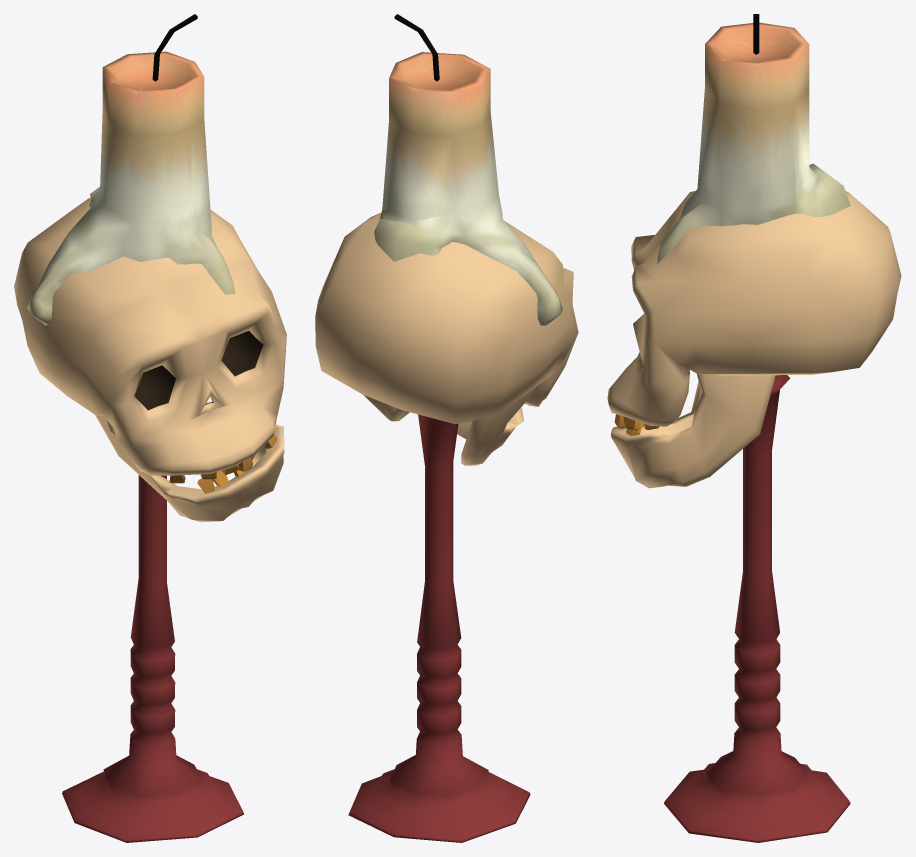
The model's file is Candle_Skull.obj.
The picture shows the model from 3 angles, left to right: view 1: azimuth 30°, elevation 25°; view 2: azimuth 150°, elevation 25°; view 3: azimuth 270°, elevation 25°; orthographic projection. The views are drawn at different scales.
Visible parts, largest first — view 1: Skull, Candle, CandleSupport, Skull_Jaw; view 2: Skull, Candle, CandleSupport, Skull_Jaw; view 3: Skull, CandleSupport, Candle, Skull_Jaw.
Boxes of the visible parts, box(x1,y1,x2,y2) form: Skull: box(14, 198, 286, 475); Candle: box(27, 51, 235, 325); CandleSupport: box(62, 475, 243, 842); Skull_Jaw: box(95, 415, 284, 521); Skull: box(315, 212, 578, 424); Candle: box(374, 52, 562, 325); CandleSupport: box(348, 414, 530, 842); Skull_Jaw: box(363, 383, 541, 465); Skull: box(607, 191, 901, 426); CandleSupport: box(664, 375, 850, 842); Candle: box(657, 22, 850, 263); Skull_Jaw: box(610, 374, 775, 488).
Size of the model in its own units: 159 by 541 by 178.
